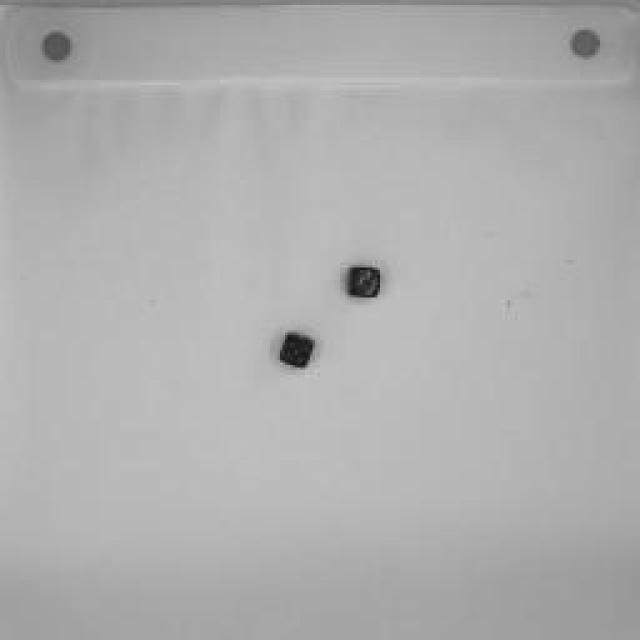dice_3: (346, 261, 384, 299)
dice_5: (280, 331, 315, 369)
